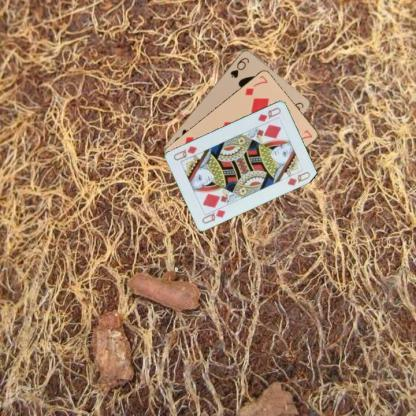6s: (228, 55, 250, 79)
7d: (242, 72, 268, 97)
Qd: (199, 203, 226, 225), (255, 105, 282, 123)
